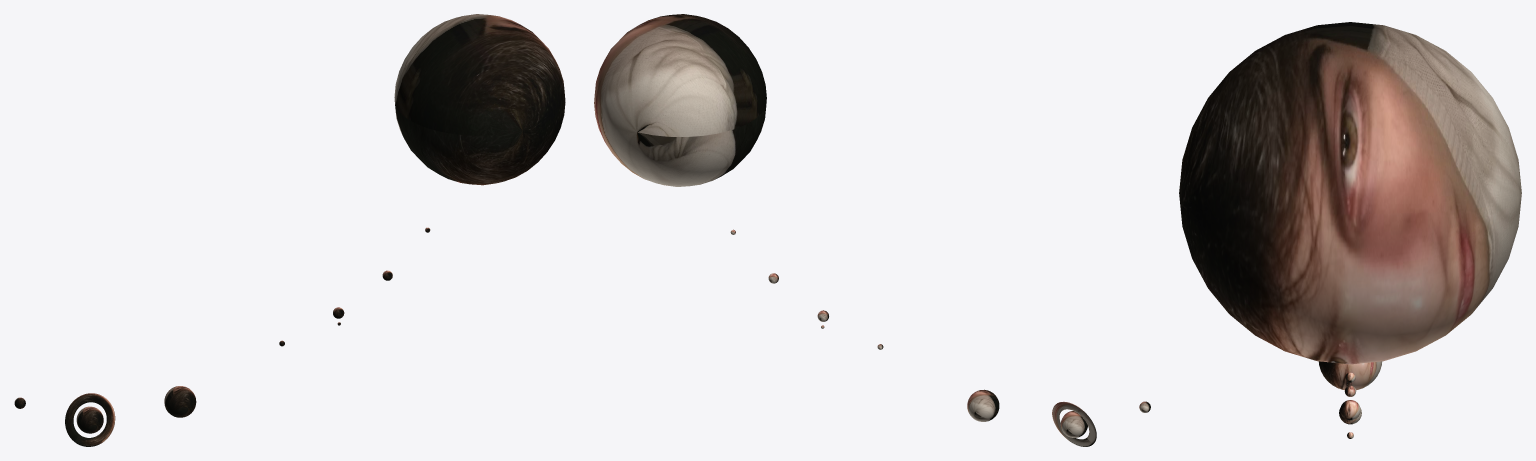
The model's file is system.obj.
3 views of the same model, side by side, from view 1: azimuth 30°, elevation 25°; view 2: azimuth 150°, elevation 25°; view 3: azimuth 270°, elevation 25° (orthographic). The views are drawn at different scales.
Visible parts, largest first — view 1: obj10, obj9, obj5, obj6; view 2: obj10, obj5, obj9, obj6; view 3: obj10, obj5, obj2.
Boxes of the visible parts, x1,y1,x2,y2 form: obj10: [394, 14, 565, 185]; obj9: [65, 393, 115, 446]; obj5: [164, 386, 196, 417]; obj6: [76, 406, 103, 433]; obj10: [594, 14, 766, 186]; obj5: [967, 389, 999, 421]; obj9: [1052, 401, 1096, 446]; obj6: [1060, 411, 1087, 437]; obj10: [1179, 22, 1521, 364]; obj5: [1318, 361, 1382, 390]; obj2: [1340, 400, 1360, 420].
Size of the model in its own units: 218 by 126 by 60.
Materials: 10 (10 with a texture image).
